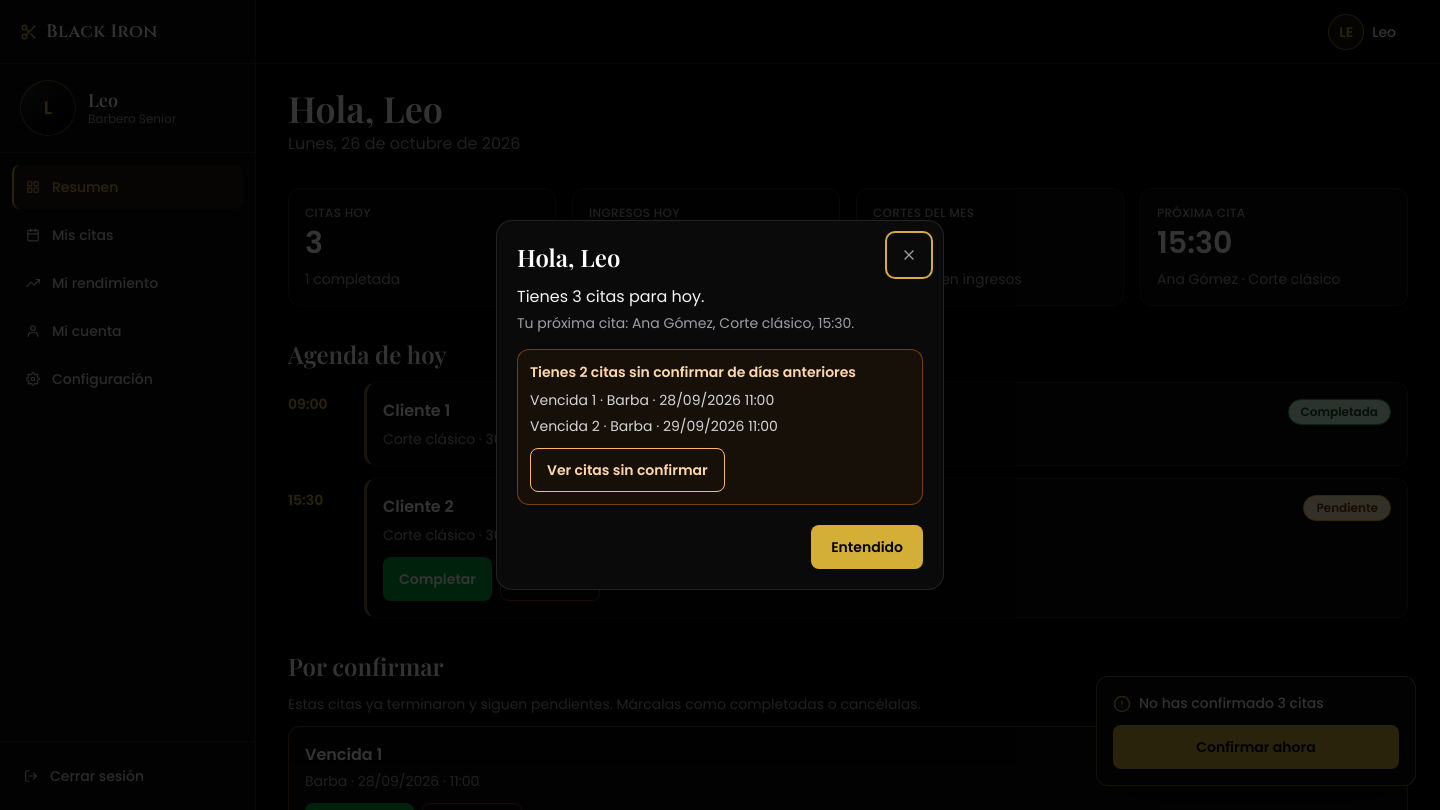
Test: Ventana de bienvenida › con citas por confirmar de días anteriores las lista aparte y el botón lleva a esa sección
Expected: the heading "Tienes 2 citas sin confirmar de días anteriores" is shown, [530, 362, 910, 382]
Expected: the dialog shows "Vencida 1 · Barba · 28/09/2026 11:00", [496, 220, 944, 590]
Click the button "Ver citas sin confirmar".
click(627, 470)  # box [530, 448, 725, 492]
(page scrolled)
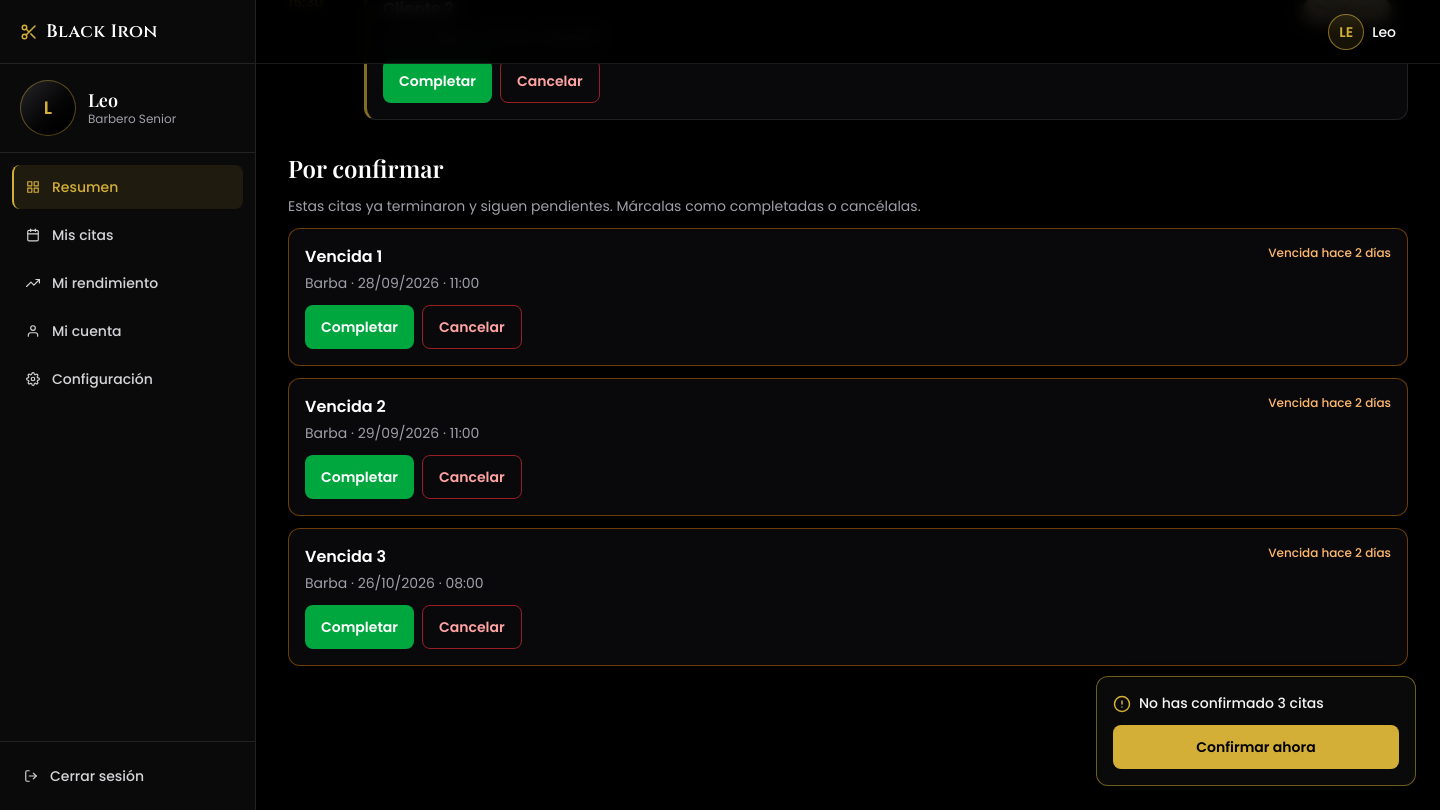
Expected: the dialog is gone
